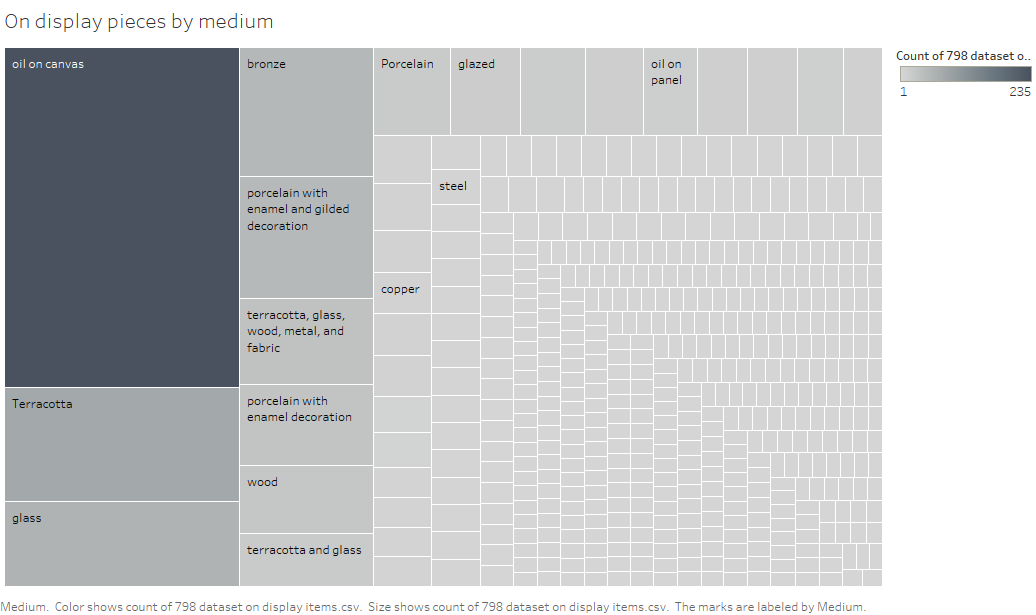

The dashboard page shown, as its layout file describes it:
{"tool":"tableau","page":{"name":"Dashboard 1","canvas":[1000,800],"ordinal":0},"visuals":[{"type":"worksheet","title":"Sheet 2","mark":"Automatic","rows":["798!data!only!not!on!view!rows_52761707DF0A46CA932B8A59ADC1F"],"cols":["date_acquired"],"box":[8,8,984,784]}]}

Visuals, with their boxes on the page's 1000x800 design canvas (x1, y1, x2, y2). These are canvas units, not pixel positions in the 1036x615 screenshot, which may show the page scaled, cropped or inside an application window:
"Sheet 2" worksheet: select_region(8, 8, 992, 792)
